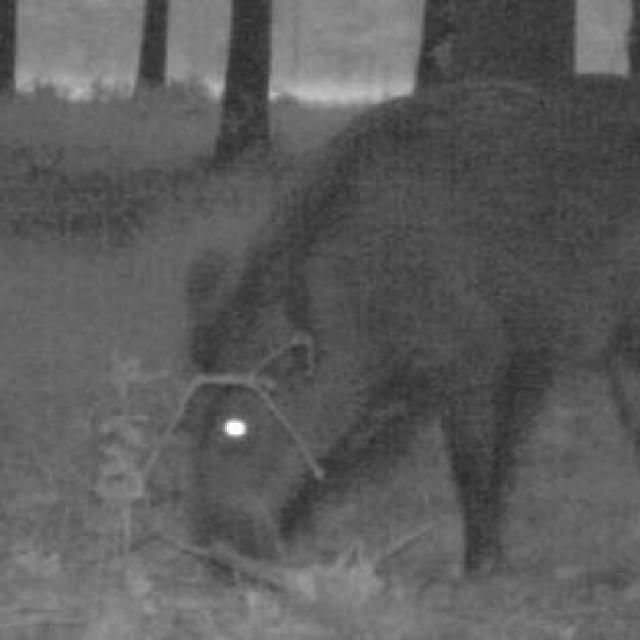pig: (175, 52, 640, 564)
